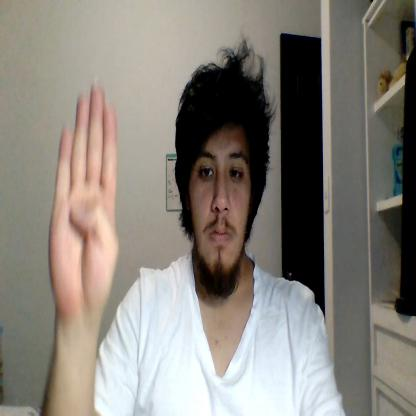B: (48, 79, 119, 316)
